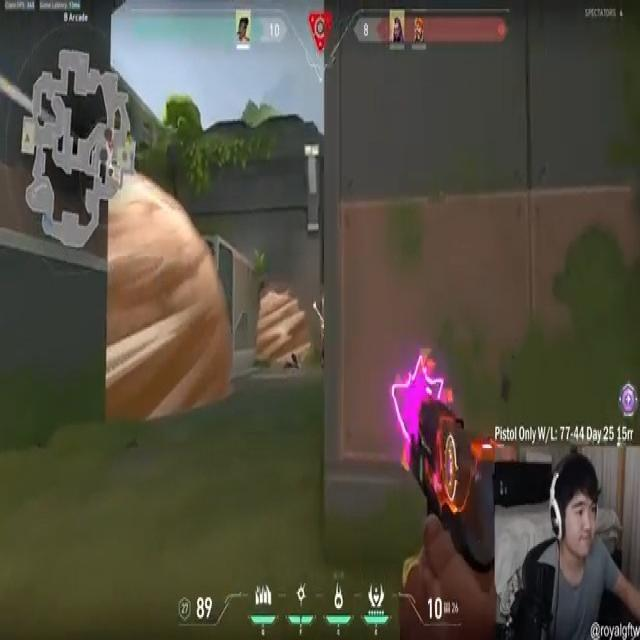smoke: (103, 176, 235, 422), (257, 290, 315, 364)
